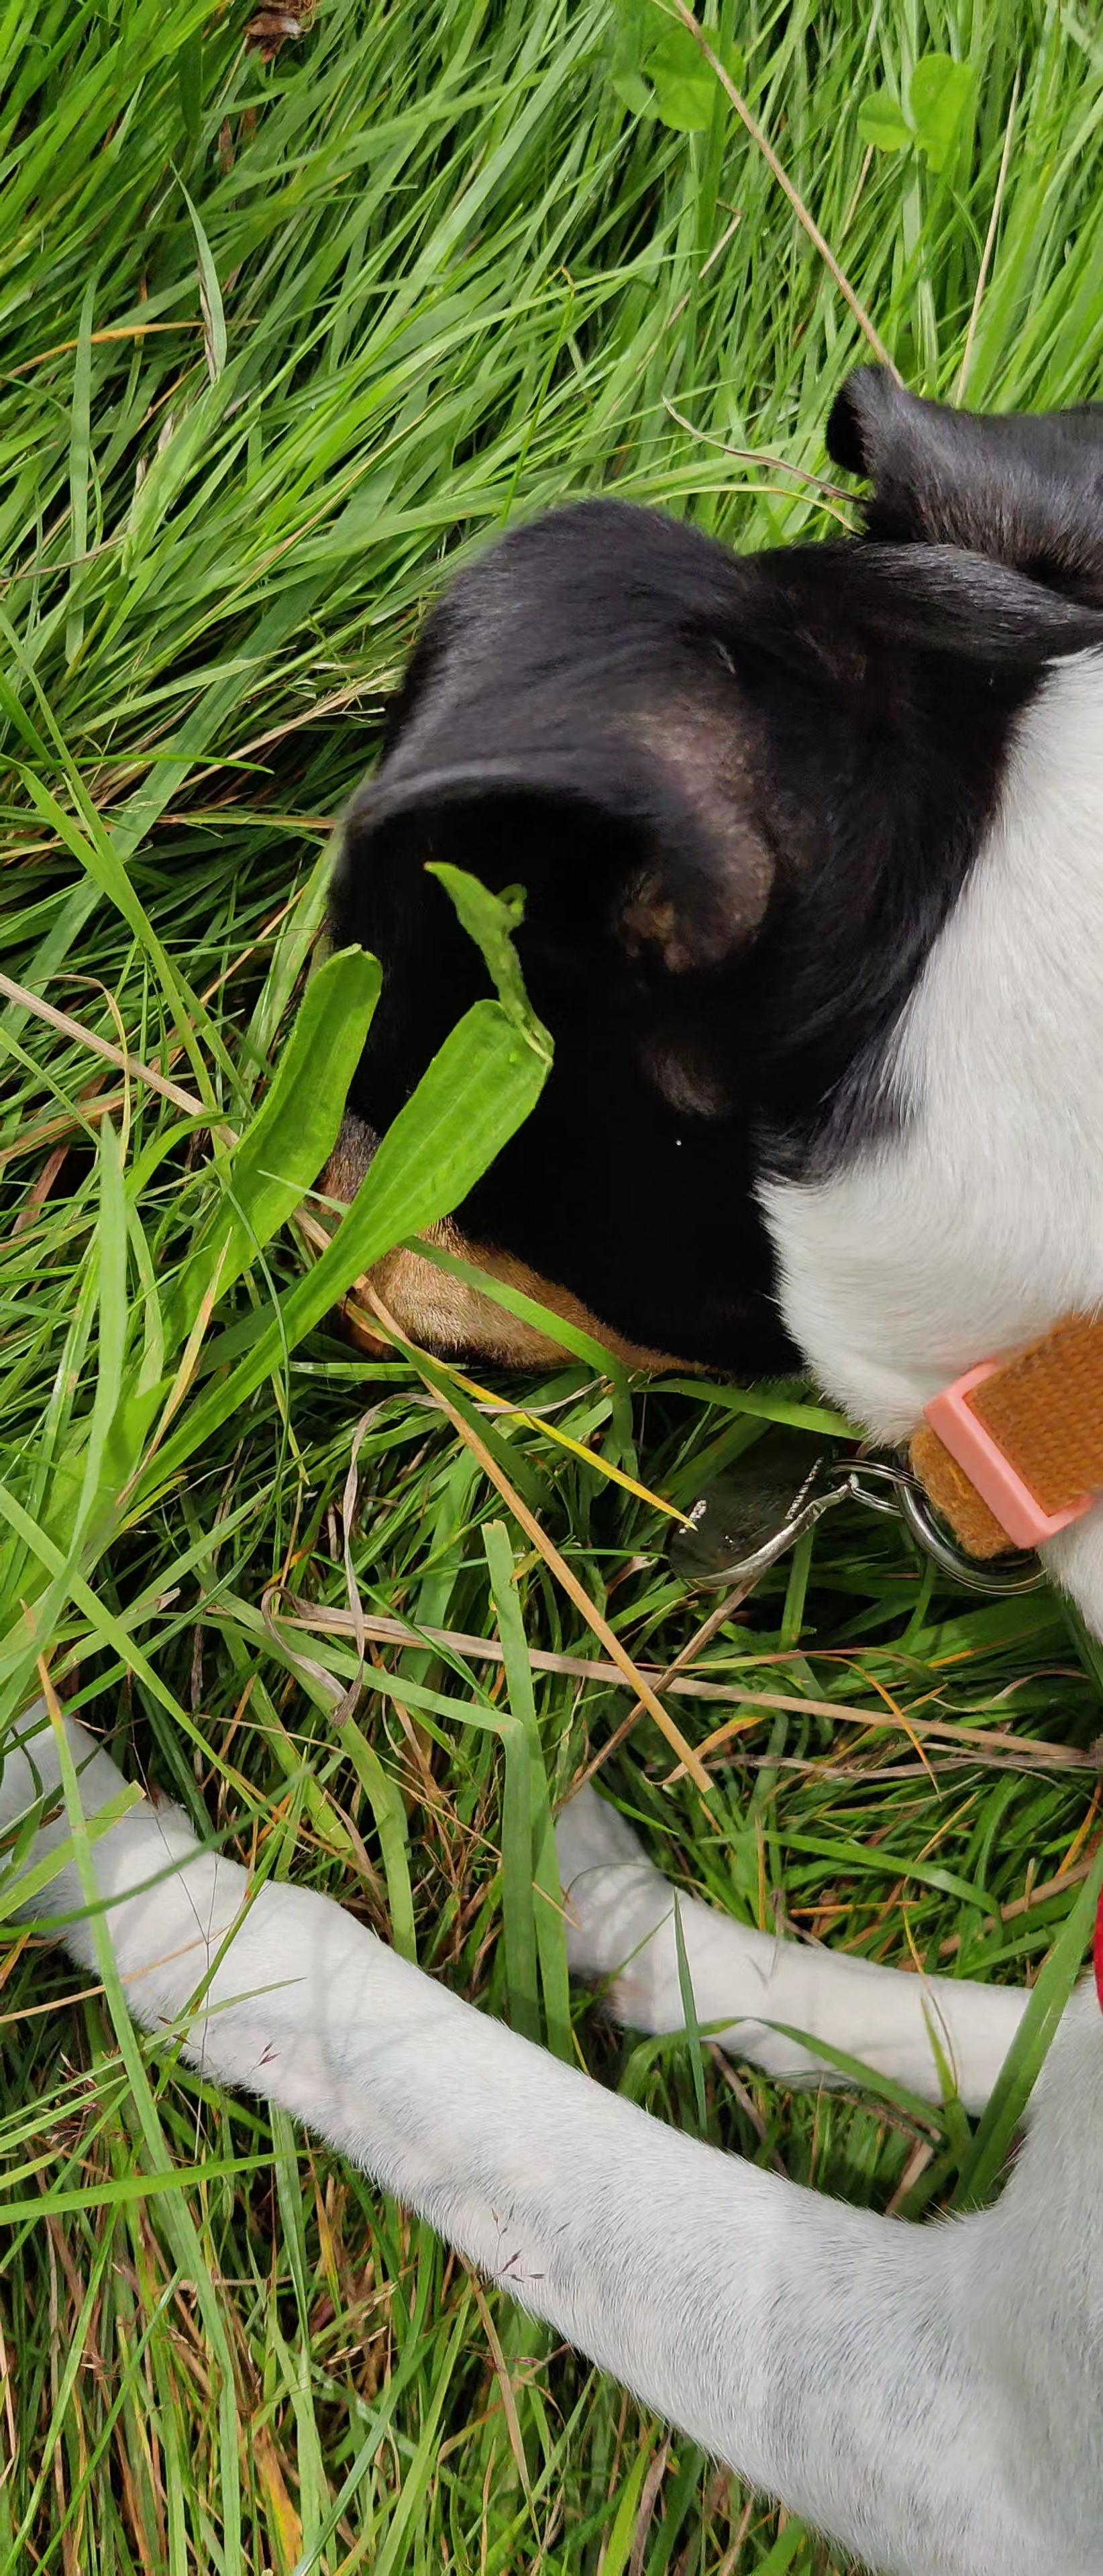Dog: (0, 348, 1103, 2576)
